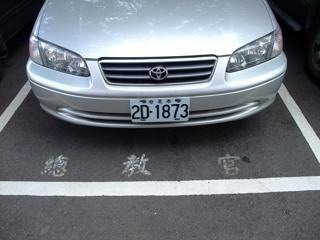plate: (129, 97, 190, 122)
